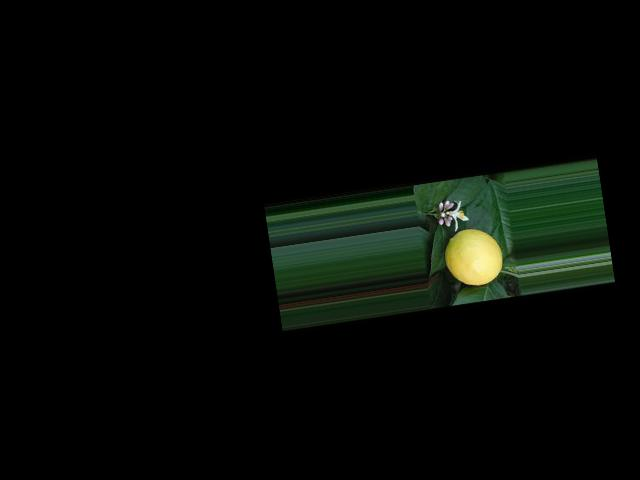lemon: (436, 217, 514, 297)
